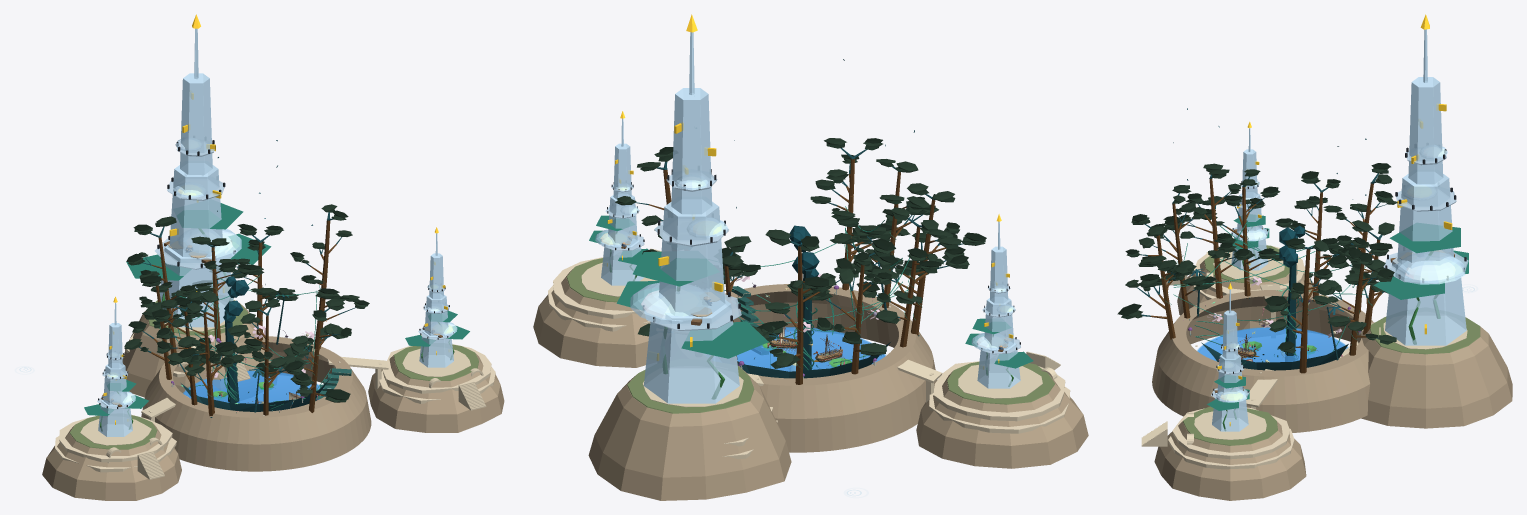
File: crystal-v7-r02.glb
The picture shows the model from 3 angles, left to right: view 1: azimuth 30°, elevation 25°; view 2: azimuth 150°, elevation 25°; view 3: azimuth 270°, elevation 25°; orthographic projection. The views are drawn at different scales.
Parts seen in each view (by area): view 1: swamp-outer-embankment, moebius-grand-community-tower, bank-rock-1, bank-rock-2, bank-rock-0, moebius-trackside-gold-left, moebius-trackside-gold-right, swamp-towering-tree, swamp-towering-tree.002, swamp-towering-tree.001, swamp-towering-tree.003, swamp-underground-waterline (+19 smaller); view 2: moebius-grand-community-tower, bank-rock-0, swamp-outer-embankment, bank-rock-1, bank-rock-2, moebius-trackside-gold-right, moebius-trackside-gold-left, swamp-towering-tree.003, swamp-towering-tree.005, swamp-towering-tree.004, swamp-towering-tree, swamp-towering-tree.002 (+21 smaller); view 3: swamp-outer-embankment, moebius-grand-community-tower, bank-rock-0, bank-rock-2, moebius-trackside-gold-left, swamp-towering-tree.008, swamp-towering-tree, swamp-underground-waterline, swamp-towering-tree.007, swamp-towering-tree.003, swamp-towering-tree.001, swamp-towering-tree.002 (+23 smaller).
Boxes of the visible parts, x1,y1,x2,y2 form: swamp-outer-embankment: (141,336,371,471); moebius-grand-community-tower: (126,14,271,327); bank-rock-1: (42,423,181,500); bank-rock-2: (368,353,504,432); bank-rock-0: (122,303,271,397); moebius-trackside-gold-left: (405,227,469,367); moebius-trackside-gold-right: (84,296,148,436); swamp-towering-tree: (282,299,351,412); swamp-towering-tree.002: (171,290,251,417); swamp-towering-tree.001: (227,298,306,415); swamp-towering-tree.003: (151,291,237,405); swamp-underground-waterline: (183,370,323,403); moebius-grand-community-tower: (616,14,768,403); bank-rock-0: (588,366,791,500); swamp-outer-embankment: (725,284,937,452); bank-rock-1: (916,371,1088,468); bank-rock-2: (533,268,648,367); moebius-trackside-gold-right: (965,214,1033,388); moebius-trackside-gold-left: (589,111,648,285); swamp-towering-tree.003: (856,207,969,347); swamp-towering-tree.005: (752,229,854,384); swamp-towering-tree.004: (806,238,899,374); swamp-towering-tree: (810,138,910,290); swamp-towering-tree.002: (864,183,986,336); swamp-outer-embankment: (1152,290,1373,432); moebius-grand-community-tower: (1373,14,1468,345); bank-rock-0: (1357,326,1512,428); bank-rock-2: (1154,421,1306,500); moebius-trackside-gold-left: (1207,283,1249,431); swamp-towering-tree.008: (1264,238,1339,373); swamp-towering-tree: (1117,214,1196,339); swamp-underground-waterline: (1197,327,1348,362); swamp-towering-tree.007: (1313,242,1396,355); swamp-towering-tree.003: (1200,169,1282,298); swamp-towering-tree.001: (1138,185,1216,318); swamp-towering-tree.002: (1163,163,1254,298).
Size of what is drawn, in the model's own units: 109 by 92.52 by 80.86.
